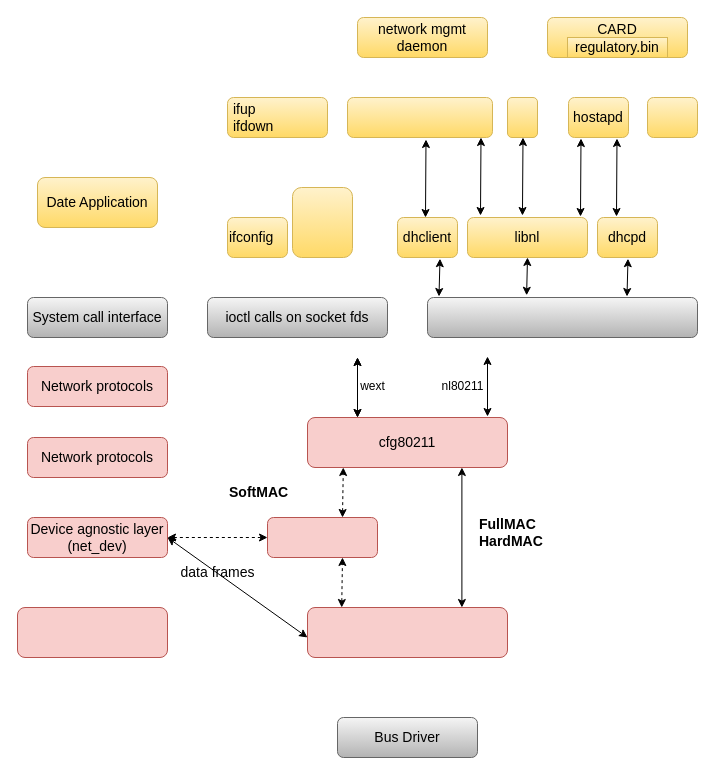
The diagram is 715 pixels wide and 775 high, and some of its shapes have lost their labels. The centre of each missing label's shape, as x and y in pixels:
"Ethernet driver" belongs at point 92,632.
"iw" belongs at point 522,117.
"mac80211" belongs at point 322,537.
"netlink socket" belongs at point 562,317.
"udev" belongs at point 672,117.
"WEXT iwconfig iwlist iwpriv" belongs at point 322,222.
"WiFi driver" belongs at point 407,632.
"wpa_supplicant" belongs at point 419,117.
